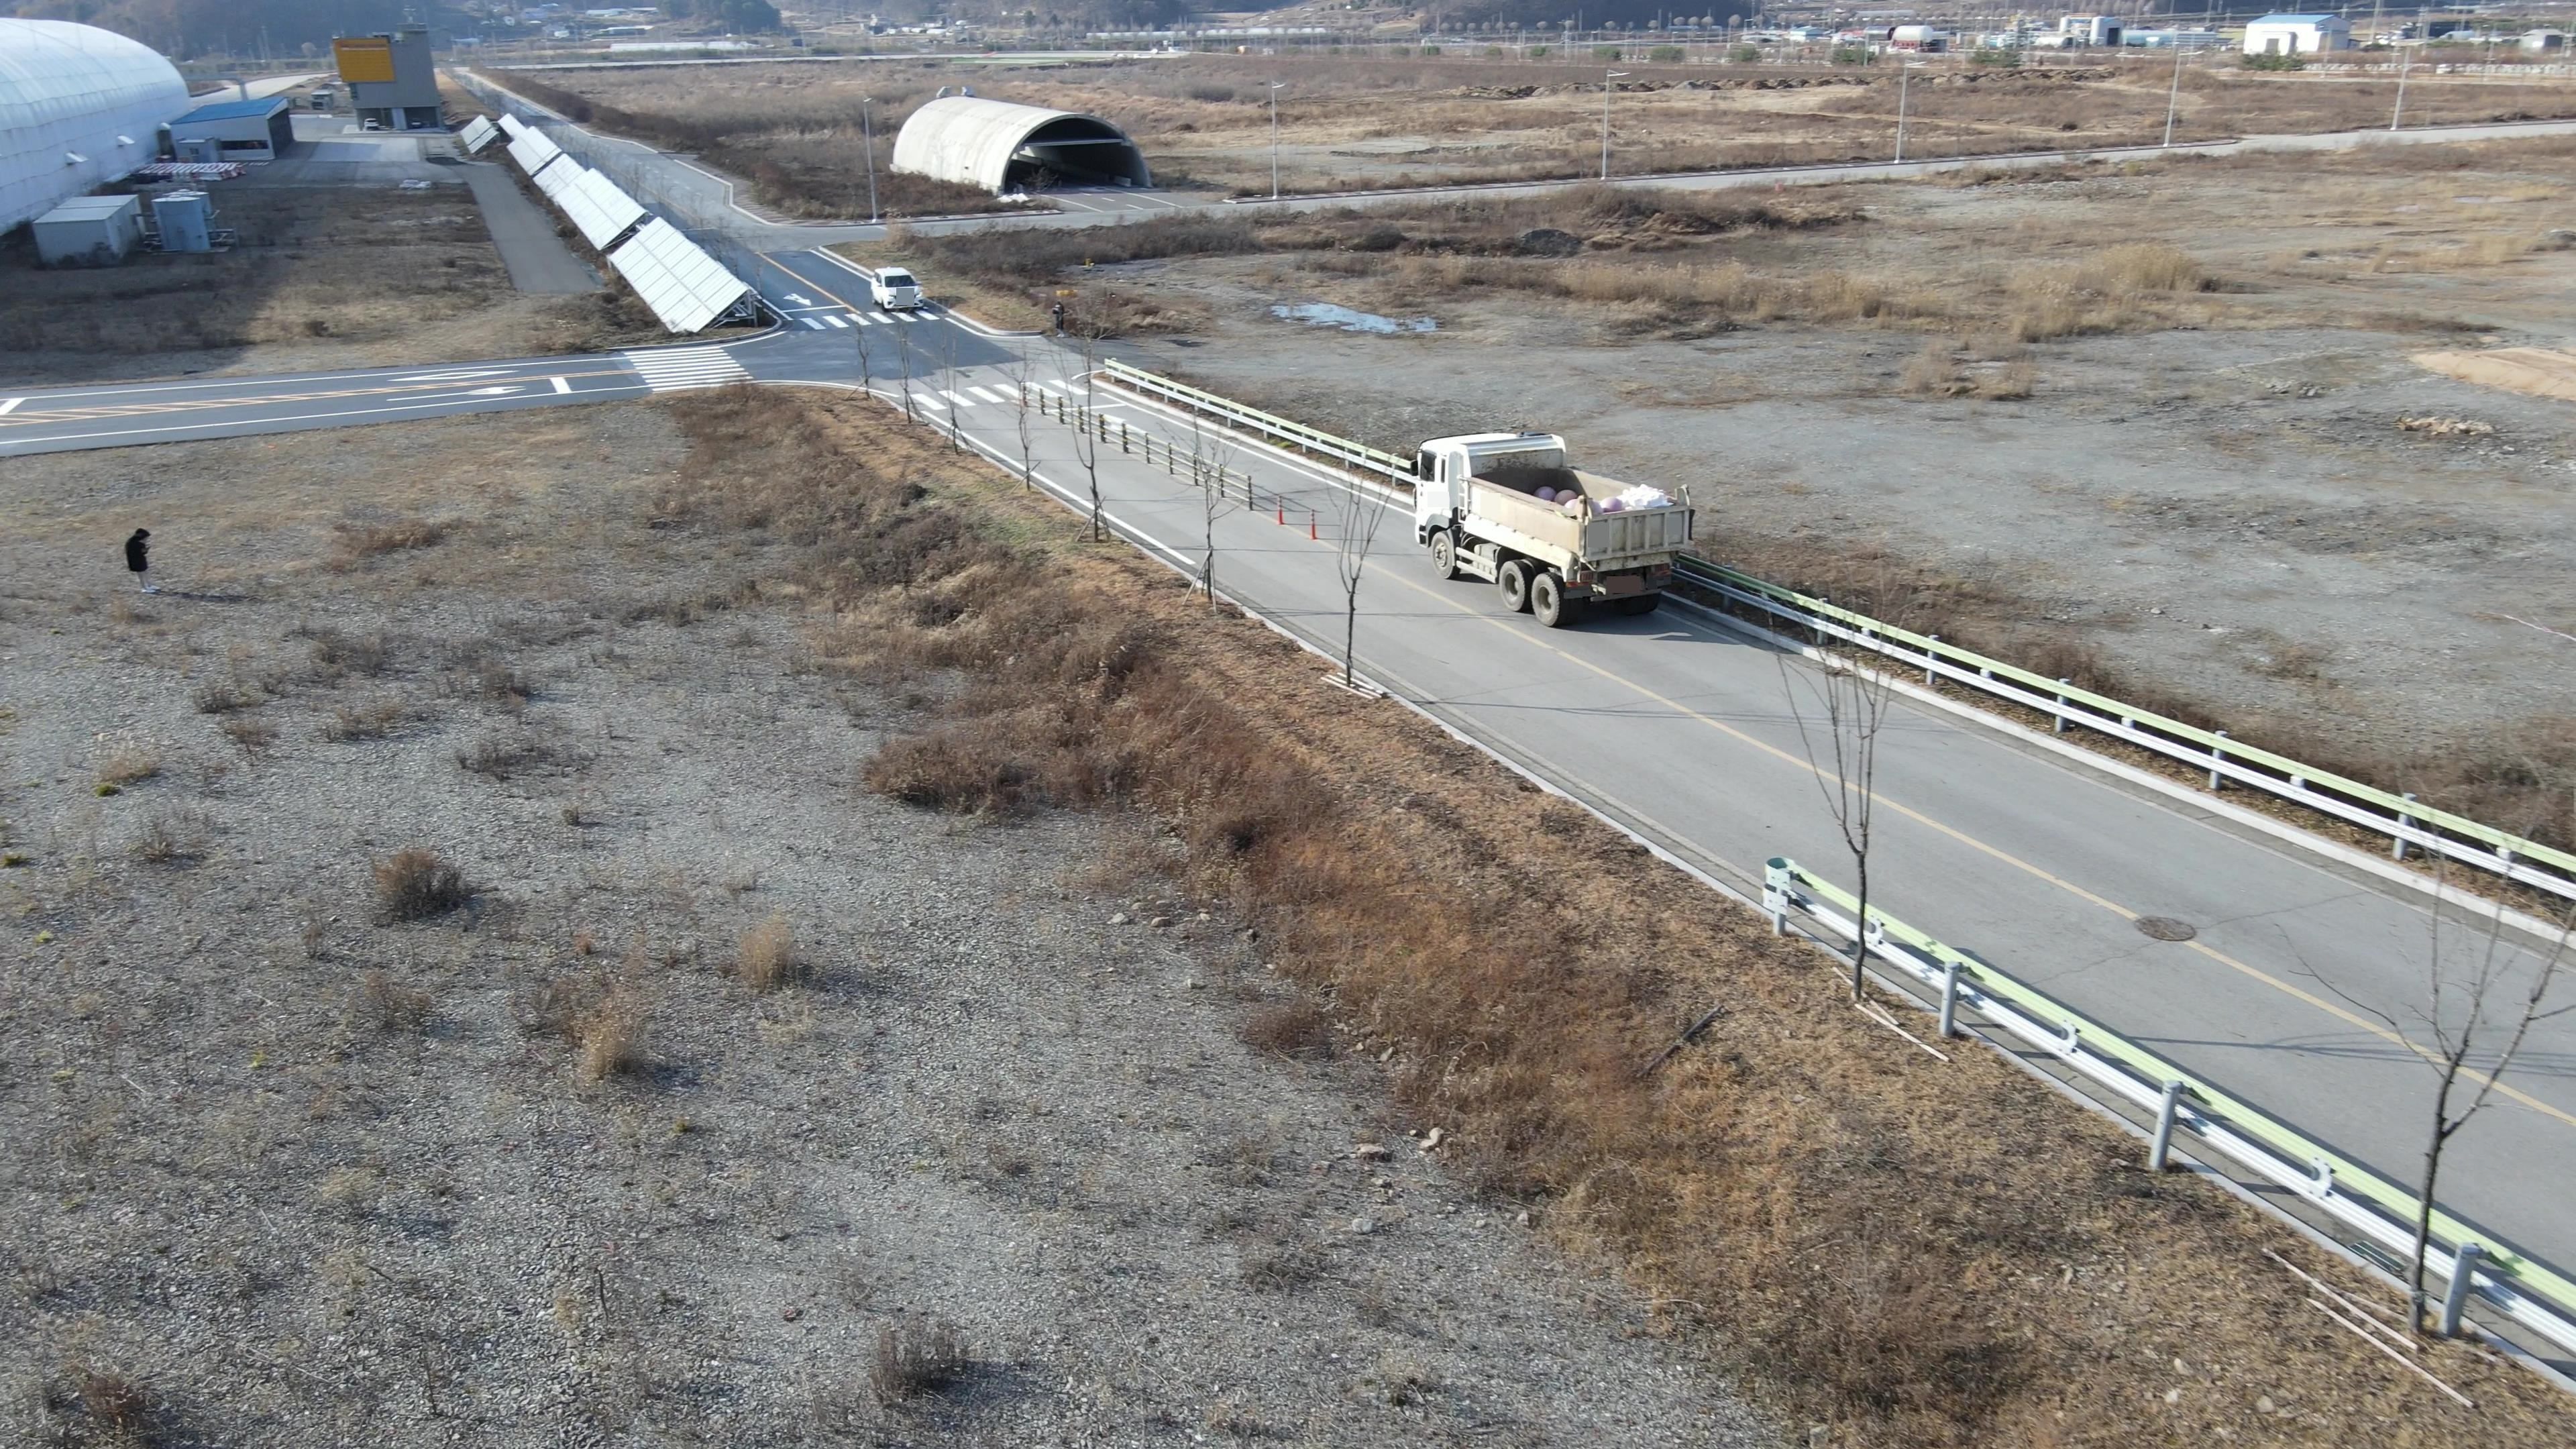불법차량: (1408, 430, 1697, 628)
